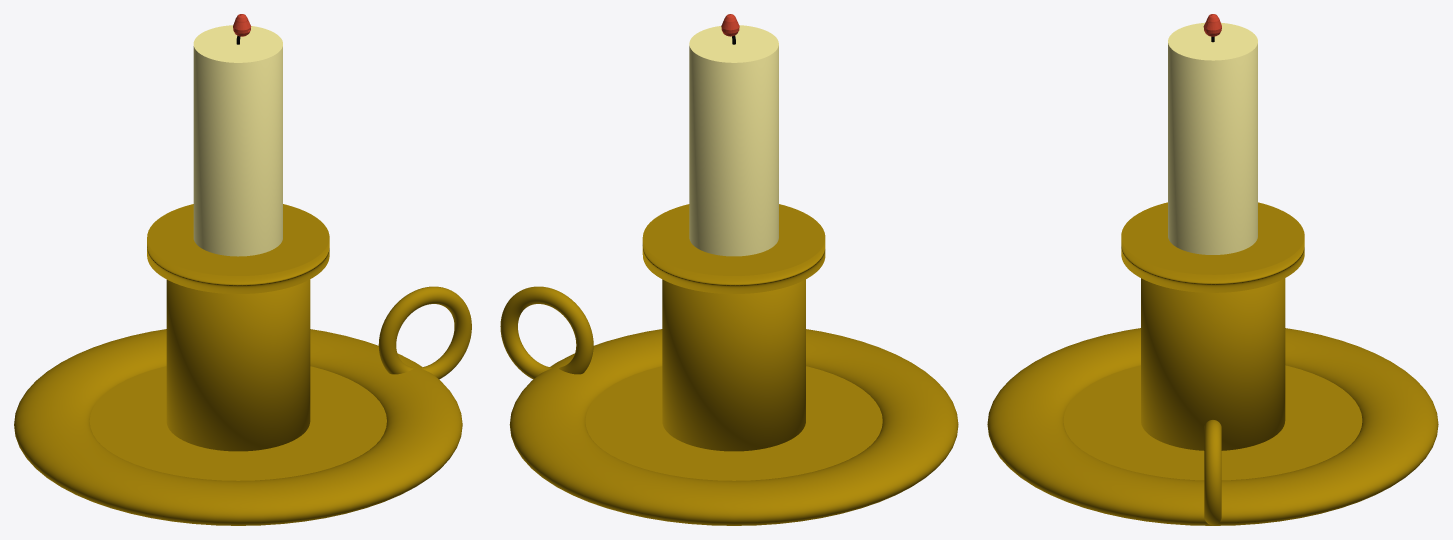
File: CandleStick.fbx
The picture shows the model from 3 angles, left to right: view 1: azimuth 30°, elevation 25°; view 2: azimuth 150°, elevation 25°; view 3: azimuth 270°, elevation 25°; orthographic projection.
Parts seen in each view (by area): view 1: Torus, Cylinder.002, Cylinder, Cylinder.001, Cylinder.003, Torus.002; view 2: Torus, Cylinder.002, Cylinder, Cylinder.001, Cylinder.003, Torus.002; view 3: Torus, Cylinder.002, Cylinder, Cylinder.001, Cylinder.003, Torus.002.
Boxes of the visible parts, <box> form: Torus: <box>14,329,462,525</box>; Cylinder.002: <box>166,279,310,451</box>; Cylinder: <box>193,25,282,256</box>; Cylinder.001: <box>89,366,386,480</box>; Cylinder.003: <box>147,204,329,293</box>; Torus.002: <box>378,286,471,379</box>; Torus: <box>509,329,958,525</box>; Cylinder.002: <box>662,279,805,451</box>; Cylinder: <box>689,25,778,256</box>; Cylinder.001: <box>585,366,882,480</box>; Cylinder.003: <box>642,204,825,293</box>; Torus.002: <box>500,286,593,379</box>; Torus: <box>987,328,1438,525</box>; Cylinder.002: <box>1141,278,1285,450</box>; Cylinder: <box>1168,22,1257,254</box>; Cylinder.001: <box>1063,365,1362,480</box>; Cylinder.003: <box>1121,202,1304,292</box>; Torus.002: <box>1204,420,1221,525</box>.
Size of the model in its own units: 590 by 562 by 538.
